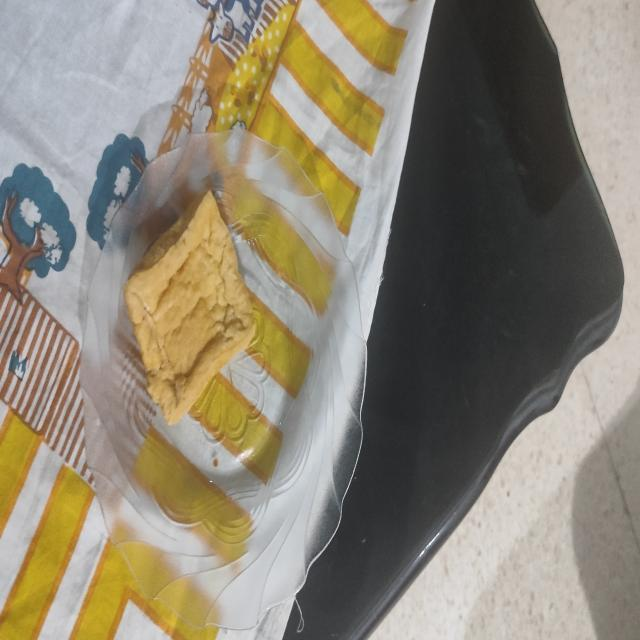tahu_goreng: (124, 190, 254, 424)
